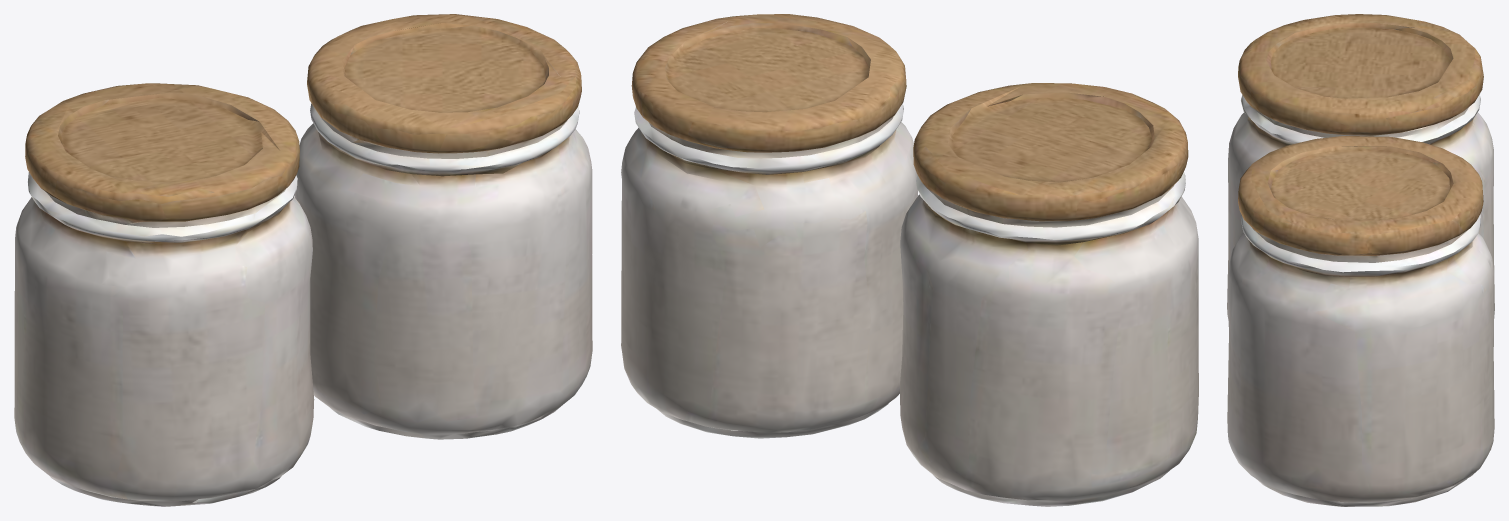
Rendered from jars.glb.
3 renders of one model, left to right at view 1: azimuth 30°, elevation 25°; view 2: azimuth 150°, elevation 25°; view 3: azimuth 270°, elevation 25°, orthographic. The views are drawn at different scales.
Parts seen in each view (by area): view 1: jars; view 2: jars; view 3: jars.
Boxes of the visible parts, x1,y1,x2,y2 form: jars: (14,14,592,506); jars: (621,14,1198,506); jars: (1227,14,1494,506).
Bounding box in the file's own units: 0.446 × 0.25 × 0.2165.
1 material, 1 textured.
